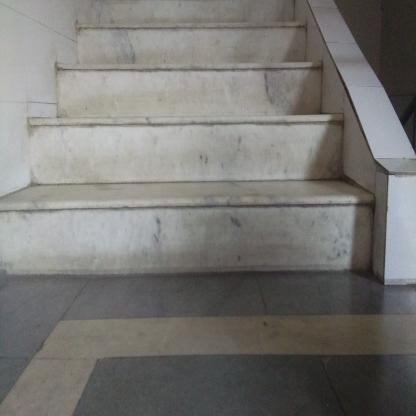stairs: (100, 33, 300, 287)
